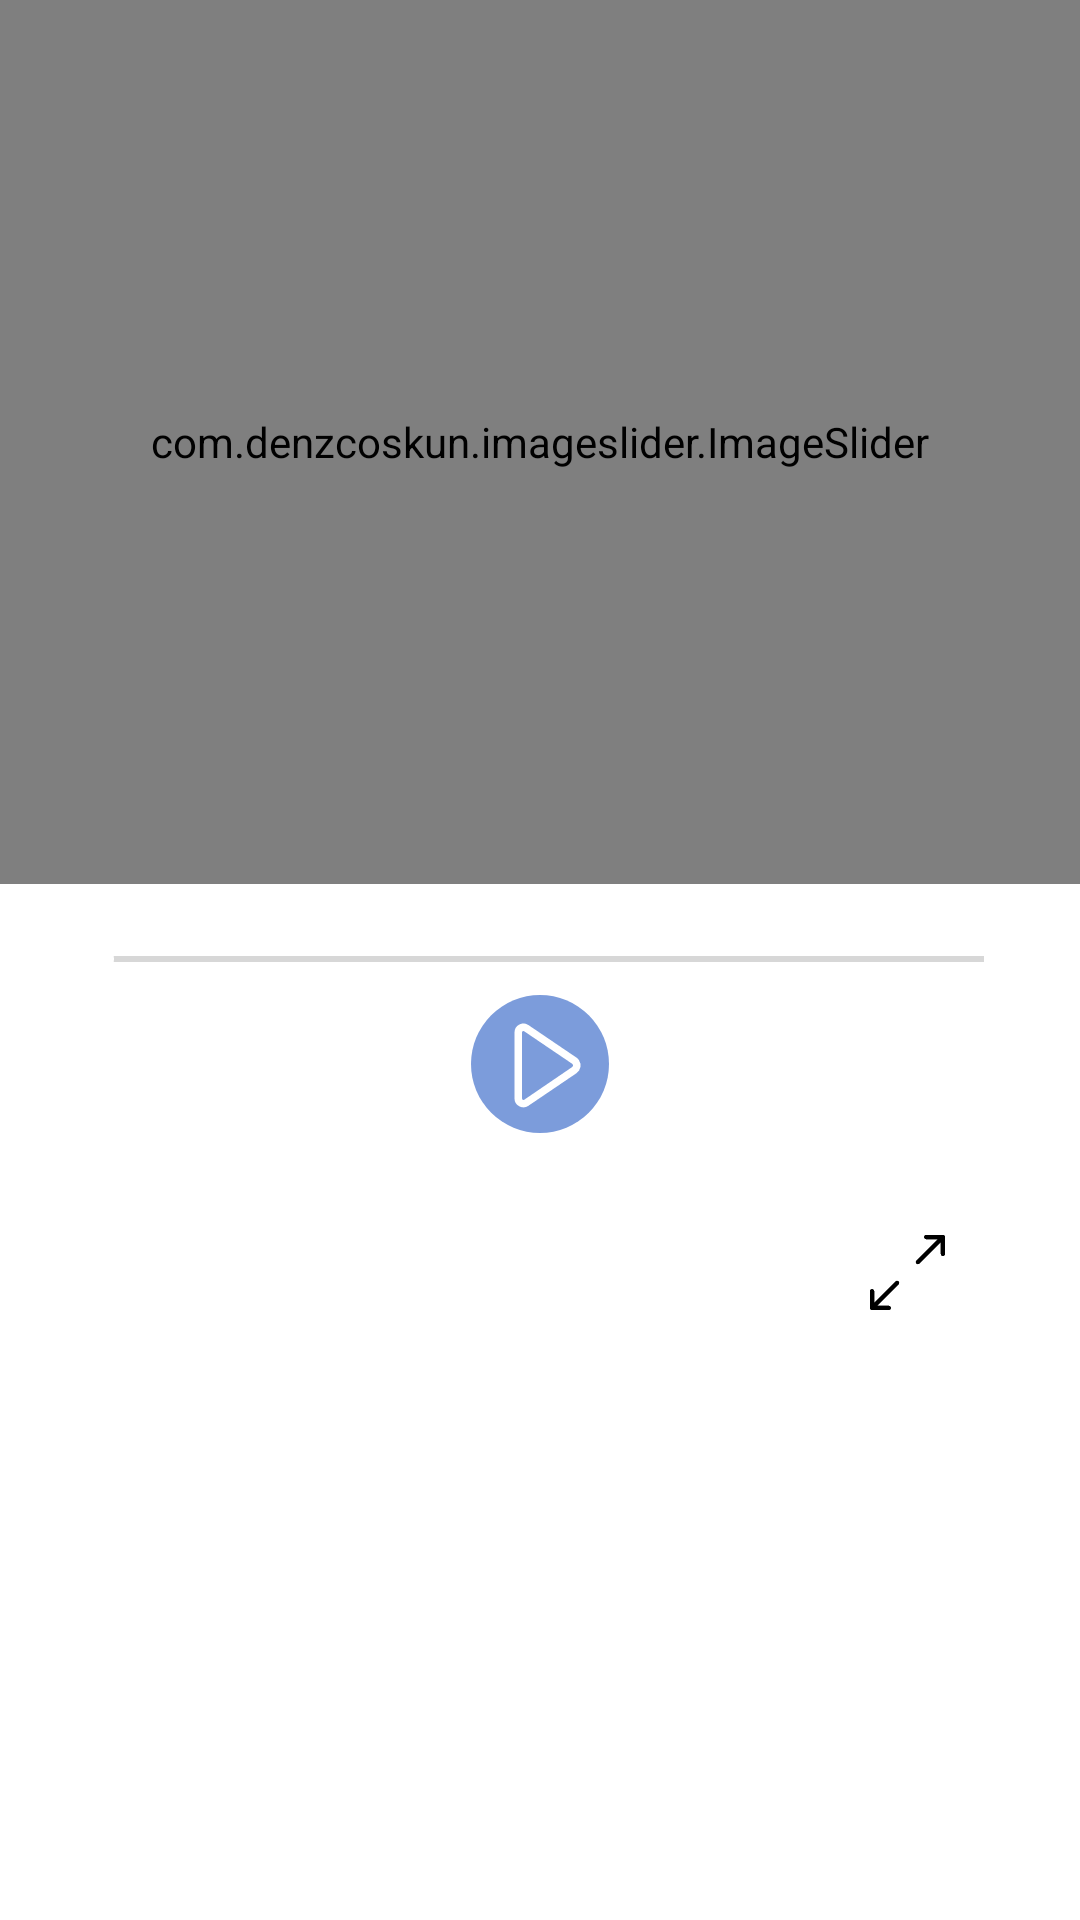

Named icons in this screenshot (1080×1920) and their centers, (x,y):
imagebuttonfor extend: (907,1272)
play: (540,1064)
